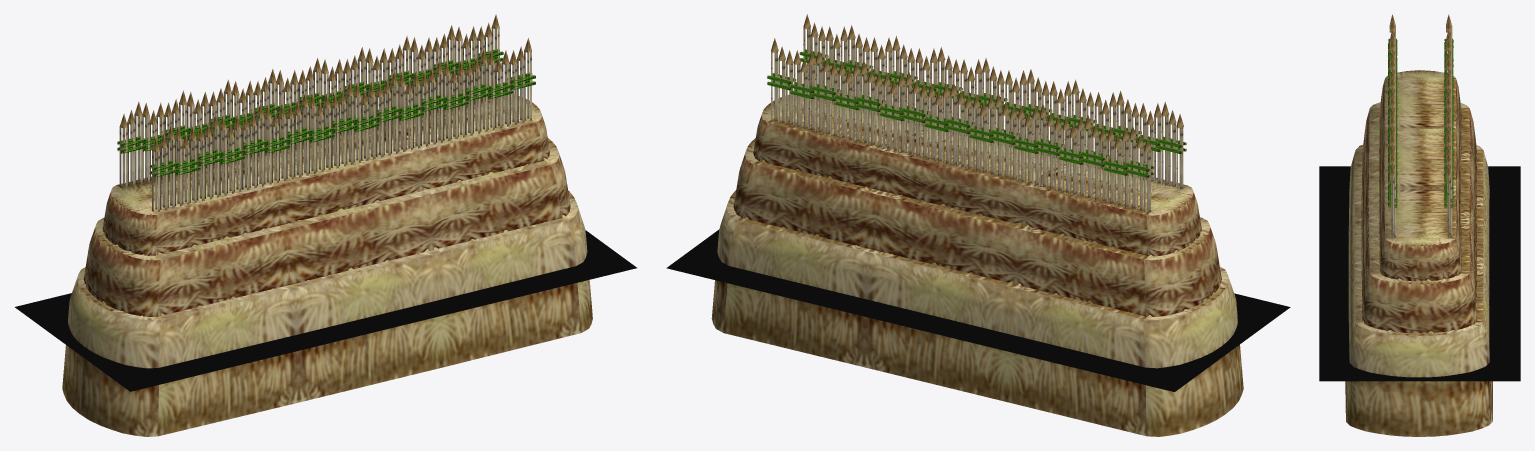
File: wall.dae
3 views of the same model, side by side, from view 1: azimuth 30°, elevation 25°; view 2: azimuth 150°, elevation 25°; view 3: azimuth 270°, elevation 25° (orthographic). The views are drawn at different scales.
Parts seen in each view (by area): view 1: Cilindro.020; view 2: Cilindro.020; view 3: Cilindro.020.
Part boxes in pixels (x1,y1,x2,y2): Cilindro.020: (15, 14, 636, 436); Cilindro.020: (666, 14, 1290, 436); Cilindro.020: (1319, 14, 1520, 436).
Bounding box in the file's own units: 8.48 × 3.36 × 4.51.
